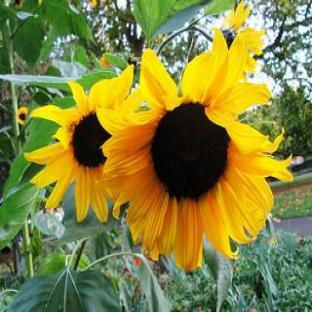sunflower: (96, 27, 293, 271)
